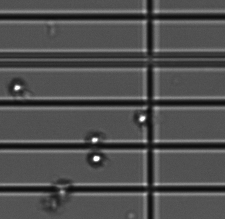Living Cell: (87, 152, 106, 167), (86, 132, 104, 147), (9, 80, 25, 95), (135, 110, 149, 126)
